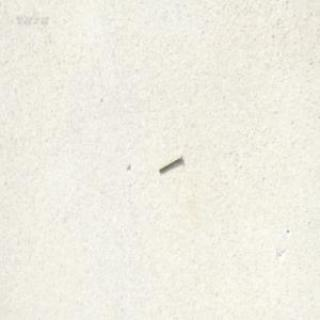Bolttrack_idkeyframe: (156, 151, 181, 173)
